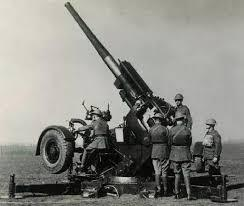MIL_SPG: (10, 3, 226, 202)
